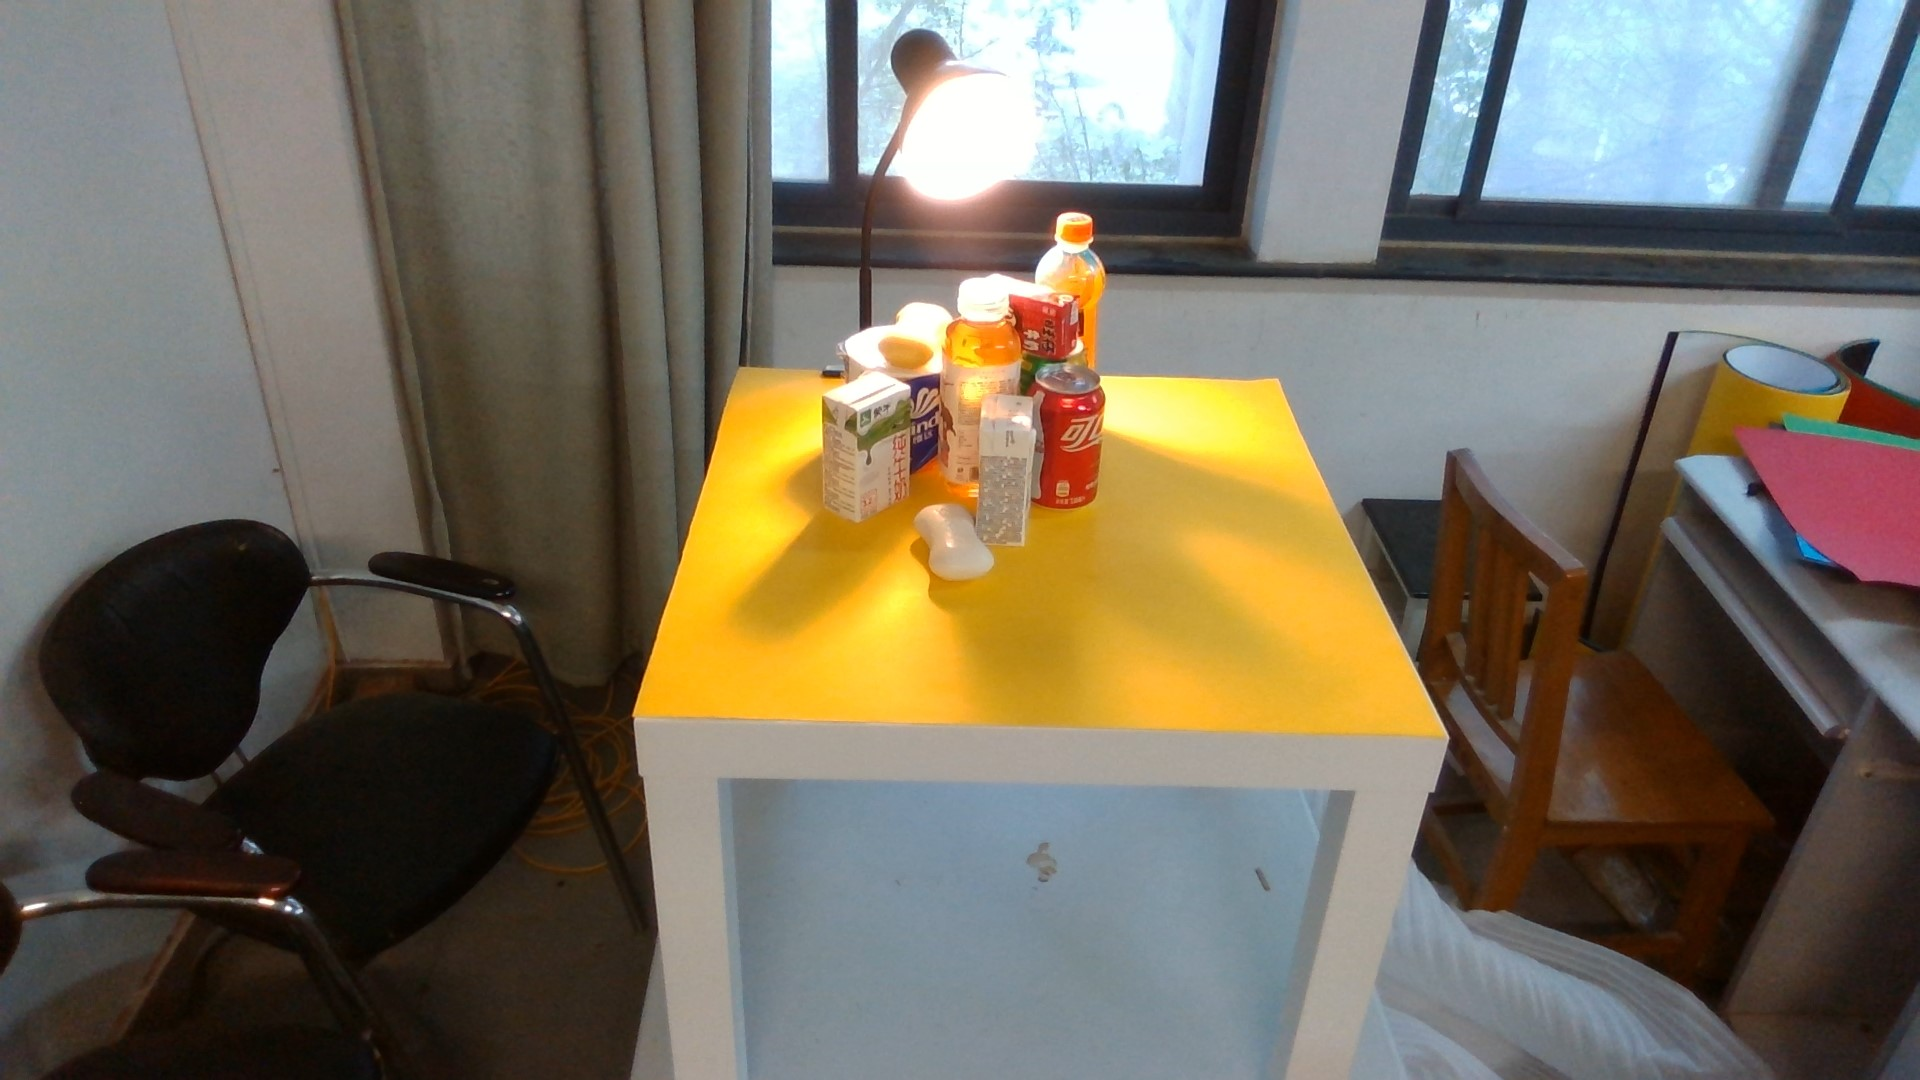BB003: (911, 502, 977, 582), (880, 299, 943, 367)
BB009: (823, 369, 911, 524)
BB012: (1026, 291, 1079, 357)
BB013: (977, 398, 1036, 527)
CA002: (916, 373, 942, 469)
ZC002: (1036, 359, 1105, 510)
ZC006: (1036, 212, 1108, 287)
ZC012: (943, 276, 977, 492)
